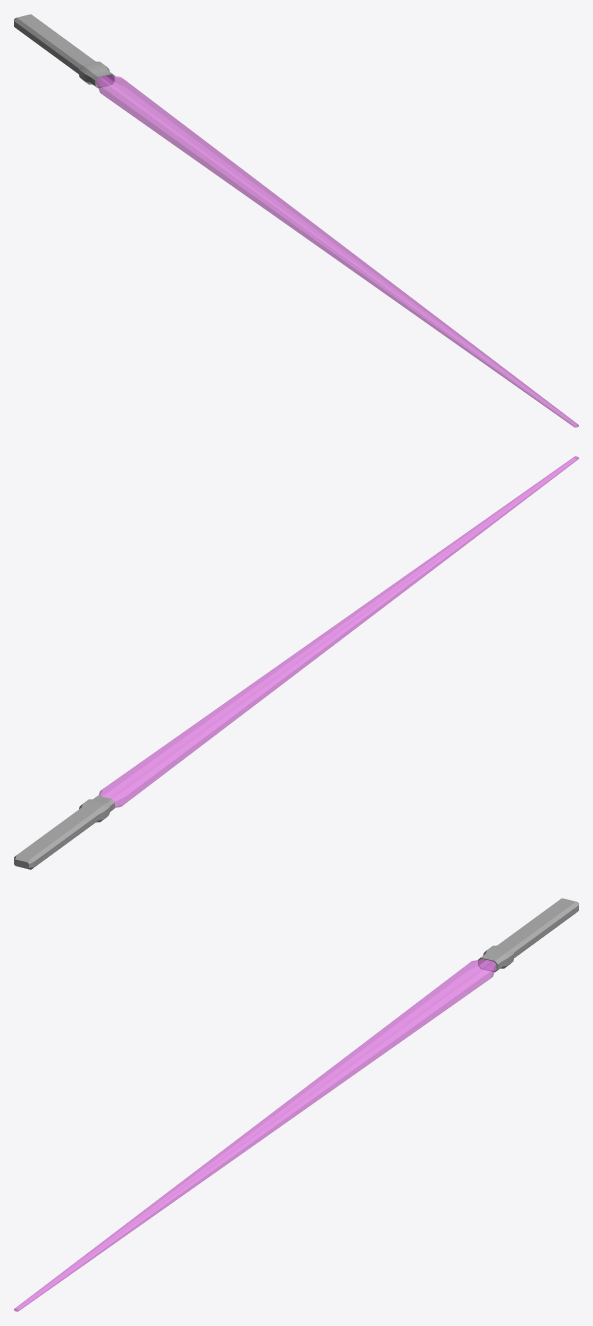
The model's file is Beam Saber.fbx.
3 renders of one model, top to bottom at view 1: azimuth 30°, elevation 25°; view 2: azimuth 150°, elevation 25°; view 3: azimuth 330°, elevation 25°, orthographic.
Visible parts, largest first — view 1: polySurface40, pCube7; view 2: polySurface40, pCube7; view 3: polySurface40, pCube7.
Part boxes in pixels (x1,y1,x2,y2): polySurface40: (96,75,578,427); pCube7: (14,14,114,88); polySurface40: (99,456,578,807); pCube7: (14,795,114,869); polySurface40: (14,959,496,1311); pCube7: (478,898,578,972).
Size of the model in its own units: 1.25 by 0.7064 by 48.73.
